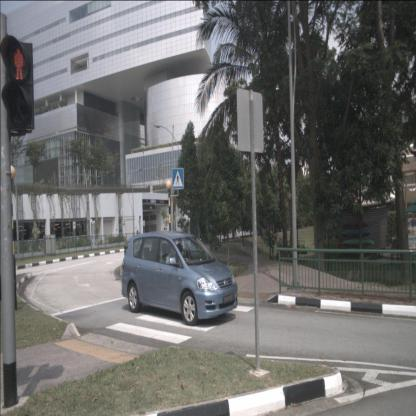vehicle-car: (121, 231, 238, 326)
